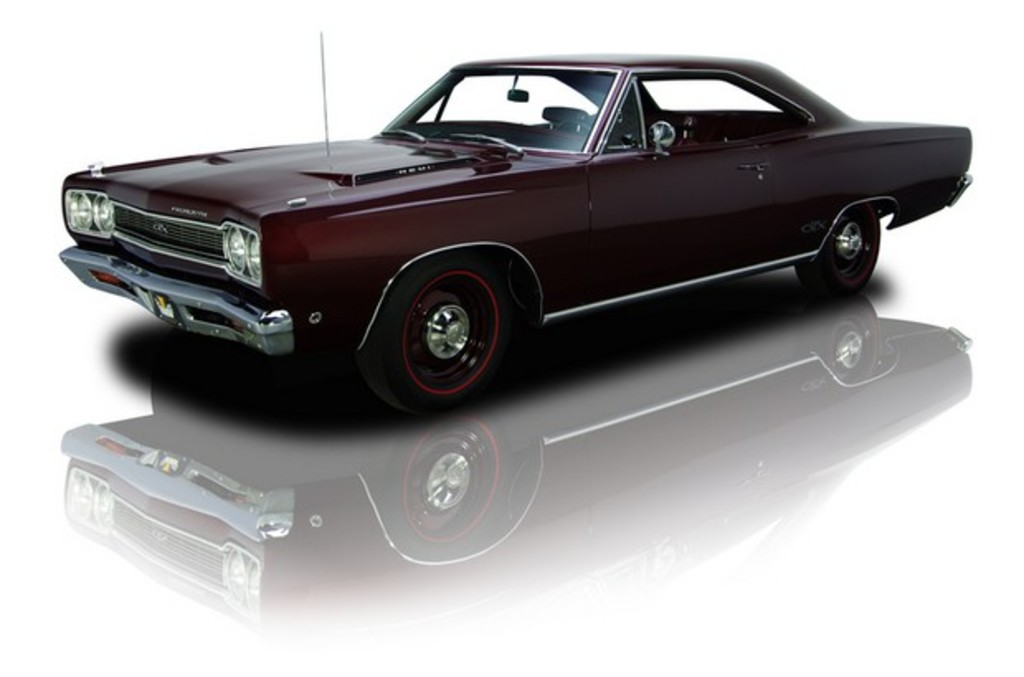Wheel: (373, 258, 520, 418), (794, 205, 884, 302)
